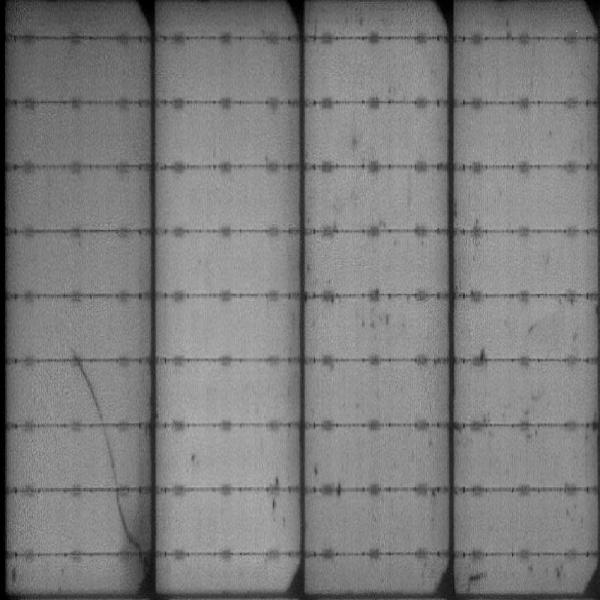scratch: (112, 491, 144, 551), (75, 360, 99, 422), (100, 431, 123, 487), (352, 308, 393, 330), (308, 459, 338, 489), (463, 563, 489, 591), (271, 474, 280, 517)
